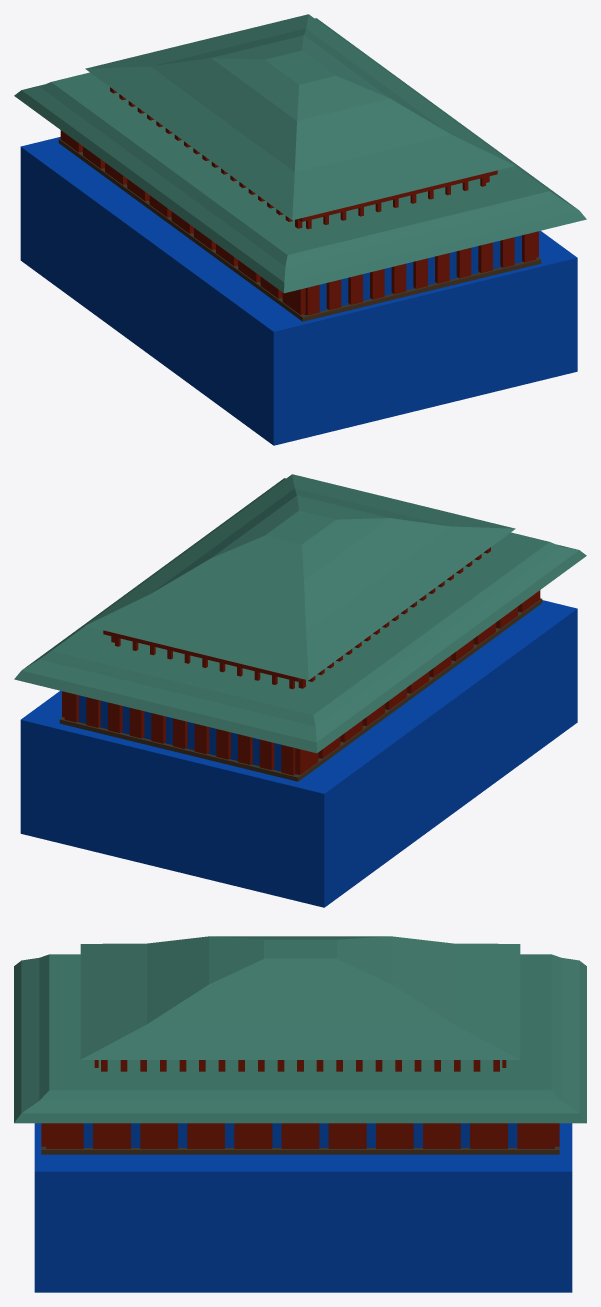
Rendered from Low tower 1.fbx.
3 views of the same model, one above another, from view 1: azimuth 30°, elevation 25°; view 2: azimuth 150°, elevation 25°; view 3: azimuth 270°, elevation 25° (orthographic). The views are drawn at different scales.
Visible parts, largest first — view 1: 立方体.024, 立方体.017, 立方体.016, 立方体.020, 立方体.019, 立方体.015, 立方体.021, 立方体.022; view 2: 立方体.024, 立方体.017, 立方体.016, 立方体.020, 立方体.019, 立方体.015, 立方体.021, 立方体.022; view 3: 立方体.024, 立方体.017, 立方体.016, 立方体.020, 立方体.019, 立方体.015, 立方体.021.
Part boxes in pixels (x1,y1,x2,y2): 立方体.024: (20,137,577,445); 立方体.017: (85,14,515,220); 立方体.016: (14,18,586,293); 立方体.020: (60,130,538,315); 立方体.019: (58,138,541,321); 立方体.015: (82,151,522,315); 立方体.021: (110,87,489,229); 立方体.022: (298,170,497,221); 立方体.024: (20,600,577,907); 立方体.017: (85,474,515,680); 立方体.016: (14,478,586,753); 立方体.020: (62,590,540,775); 立方体.019: (59,598,542,781); 立方体.015: (78,611,518,774); 立方体.021: (111,547,490,689); 立方体.022: (103,630,302,681); 立方体.024: (34,1123,572,1292); 立方体.017: (80,936,520,1059); 立方体.016: (14,954,586,1123); 立方体.020: (41,1123,559,1148); 立方体.019: (41,1146,559,1154); 立方体.015: (83,1123,517,1147); 立方体.021: (94,1060,506,1071).
Bounding box in the file's own units: 200 × 157 × 308.
